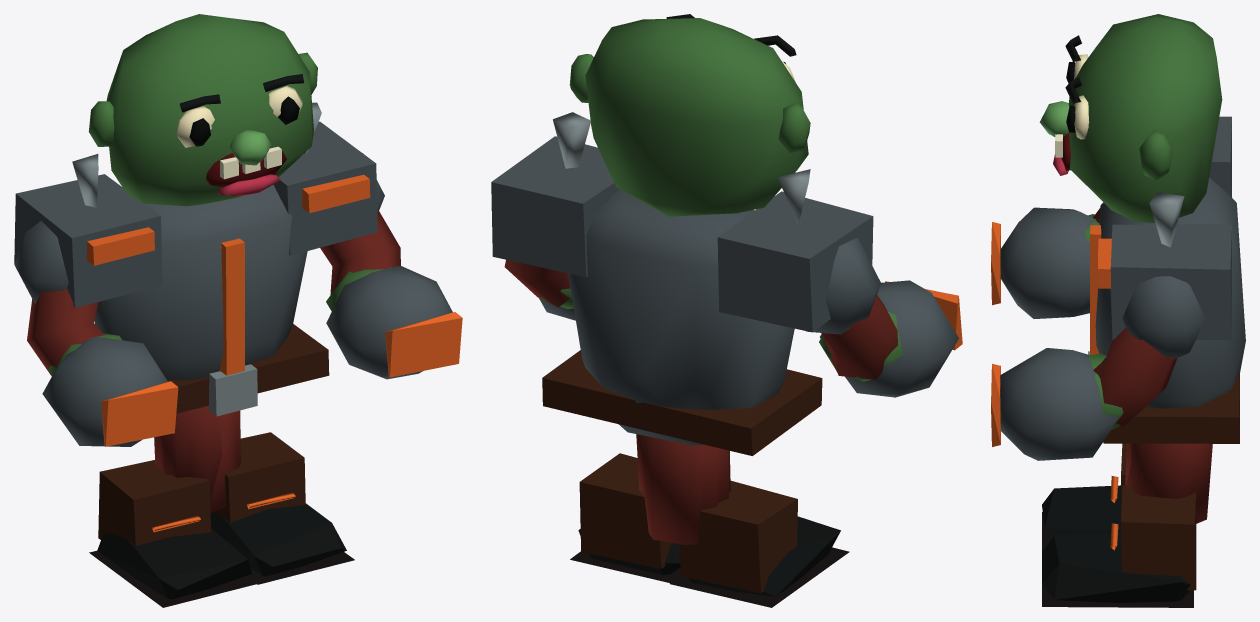
The model's file is elite-lod.glb.
3 views of the same model, side by side, from view 1: azimuth 30°, elevation 25°; view 2: azimuth 150°, elevation 25°; view 3: azimuth 270°, elevation 25° (orthographic). The views are drawn at different scales.
Visible parts, largest first — view 1: Arms, Head, Body, LegL, LegR; view 2: Arms, Body, Head, LegL, LegR; view 3: Arms, Head, LegR, Body, LegL.
Part boxes in pixels (x1=…): Arms: x1=14, y1=102, x2=462, y2=446; Head: x1=88, y1=14, x2=317, y2=206; Body: x1=94, y1=184, x2=329, y2=416; LegL: x1=89, y1=410, x2=260, y2=607; LegR: x1=160, y1=405, x2=354, y2=584; Arms: x1=491, y1=112, x2=962, y2=397; Body: x1=542, y1=189, x2=822, y2=455; Head: x1=569, y1=14, x2=810, y2=216; LegL: x1=636, y1=434, x2=849, y2=607; LegR: x1=570, y1=434, x2=728, y2=583; Arms: x1=991, y1=116, x2=1231, y2=460; Head: x1=1039, y1=14, x2=1222, y2=222; LegR: x1=1042, y1=443, x2=1207, y2=607; Body: x1=1088, y1=177, x2=1245, y2=443; LegL: x1=1042, y1=443, x2=1212, y2=551.
Bounding box in the file's own units: 0.9229 × 1.16 × 0.5012.
1 material, 1 textured.
